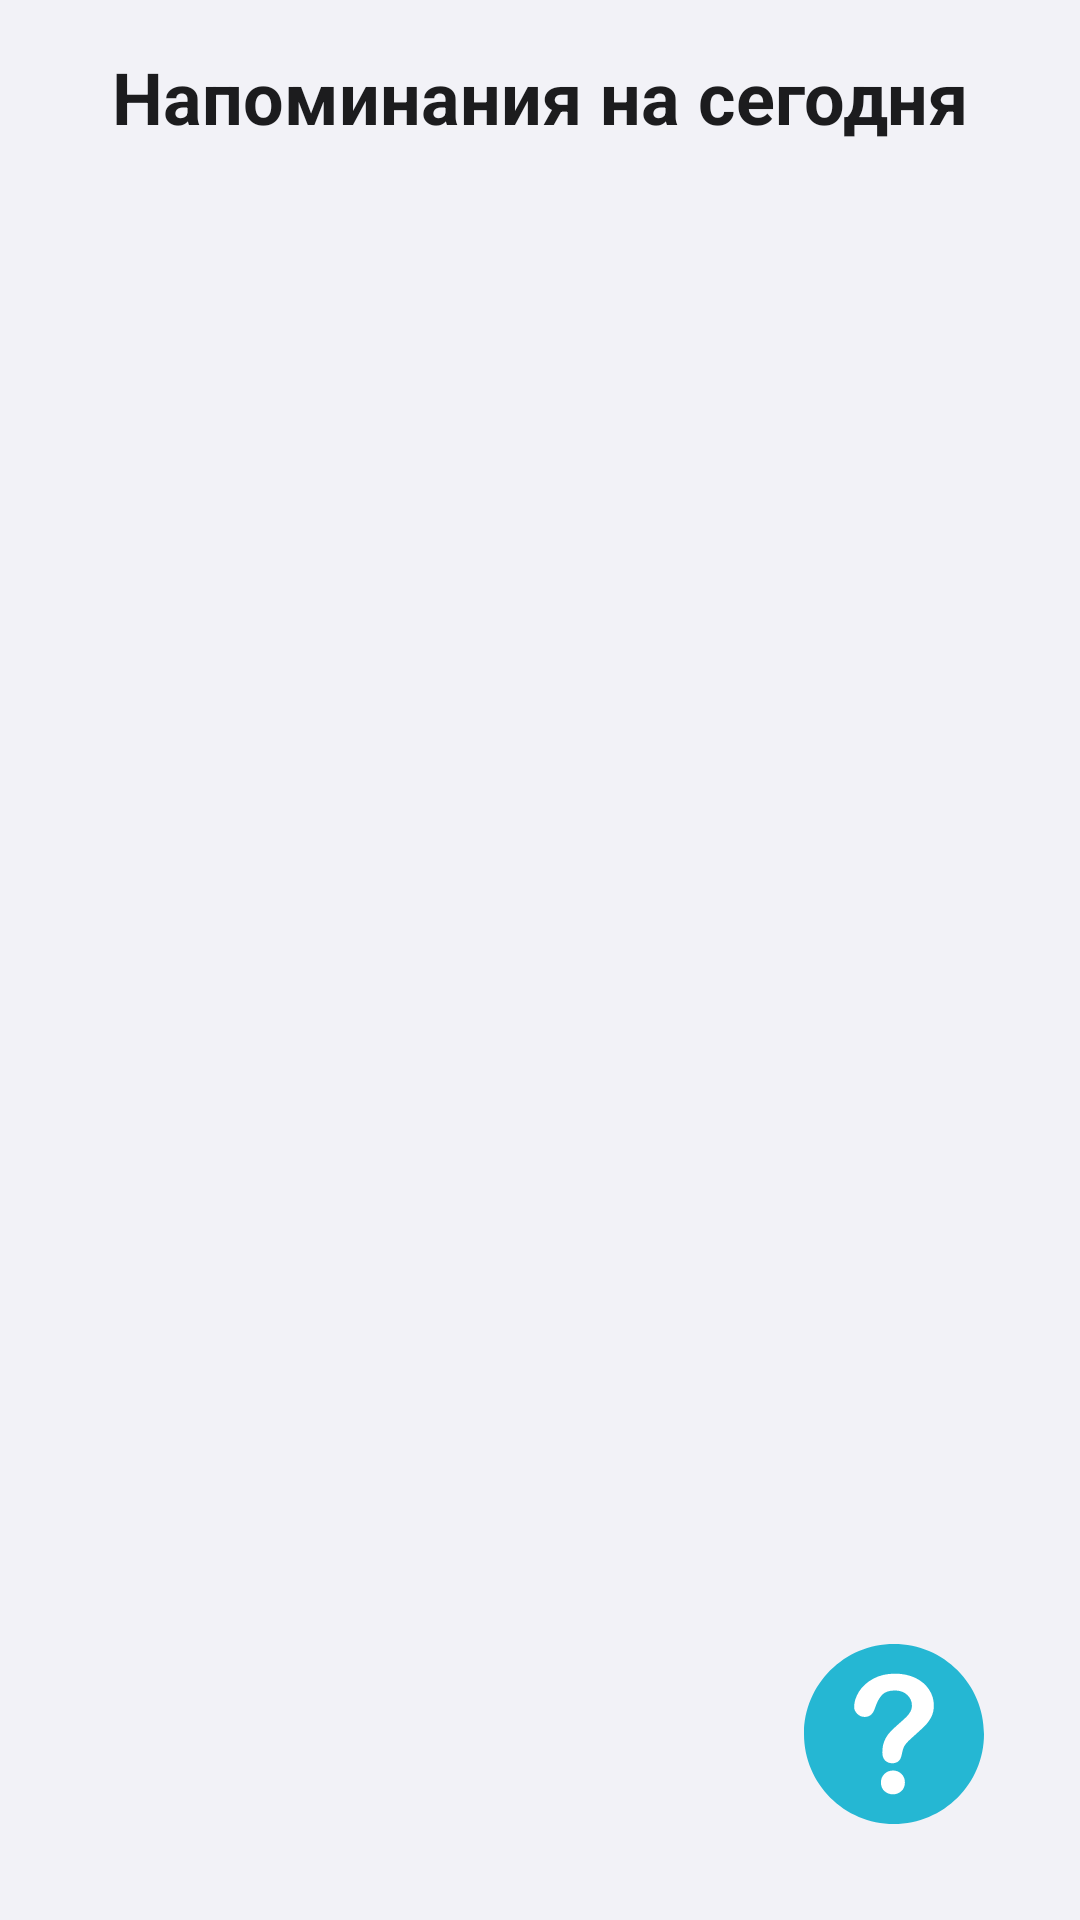

Screen size 1080 × 1920. Icon name, then its box in pixels as (x1, y1, x2, y2):
question: (804, 1644, 984, 1824)
